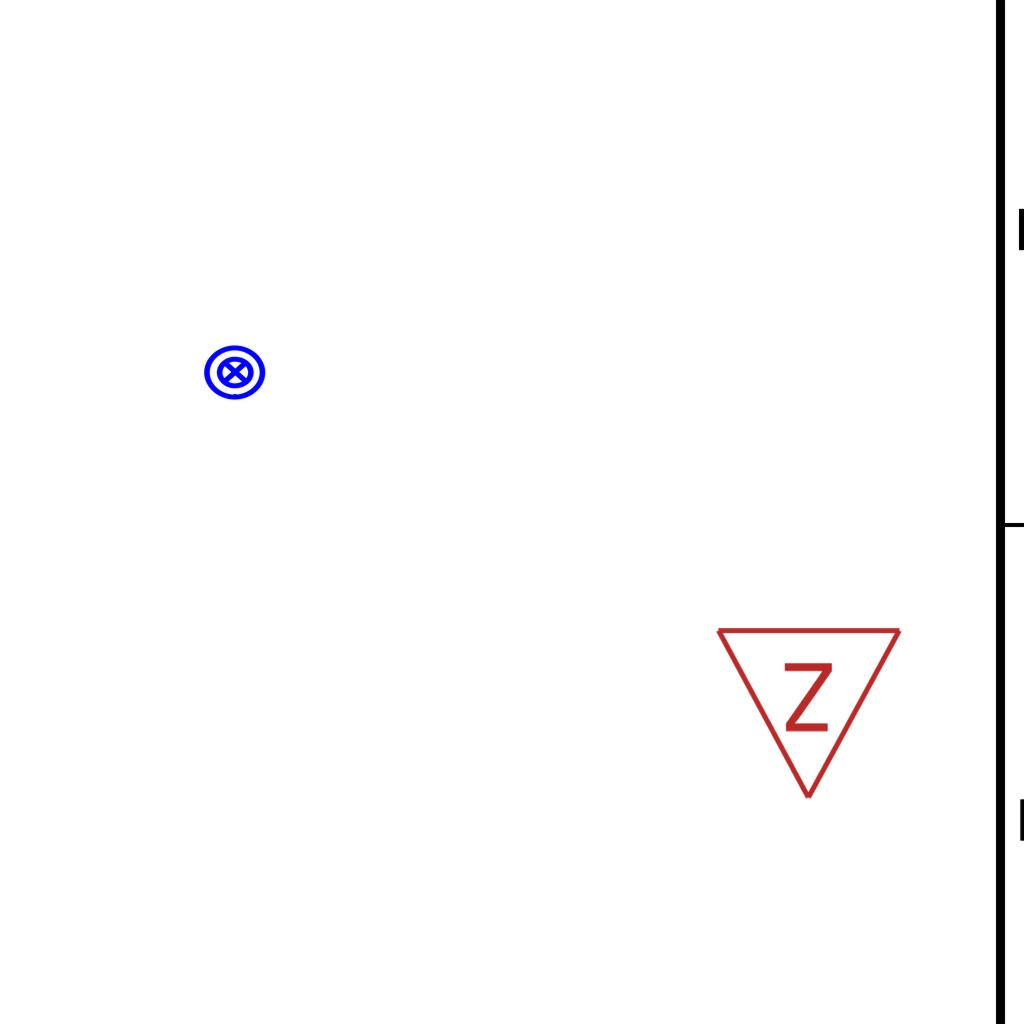Taster_beleuchtet: (202, 339, 268, 405)
Zimmersignalleuchte: (713, 613, 909, 813)
